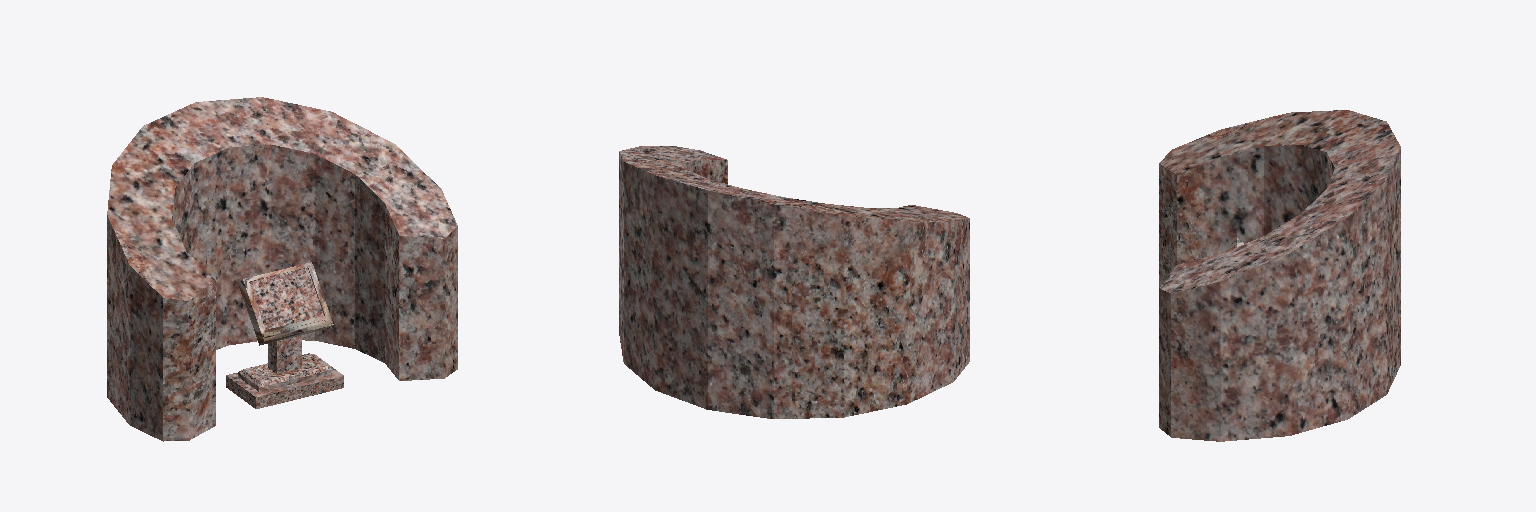
3 views of the same model, side by side, from view 1: azimuth 30°, elevation 25°; view 2: azimuth 150°, elevation 25°; view 3: azimuth 270°, elevation 25° (orthographic).
Parts seen in each view (by area): view 1: 실린더_실린더.002; view 2: 실린더_실린더.002; view 3: 실린더_실린더.002.
Boxes of the visible parts, x1=… form: 실린더_실린더.002: x1=107, y1=97, x2=457, y2=441; 실린더_실린더.002: x1=619, y1=146, x2=969, y2=418; 실린더_실린더.002: x1=1159, y1=110, x2=1400, y2=441.
Bounding box in the file's own units: 4.08 × 2.74 × 2.73.
Materials: 1 (1 with a texture image).